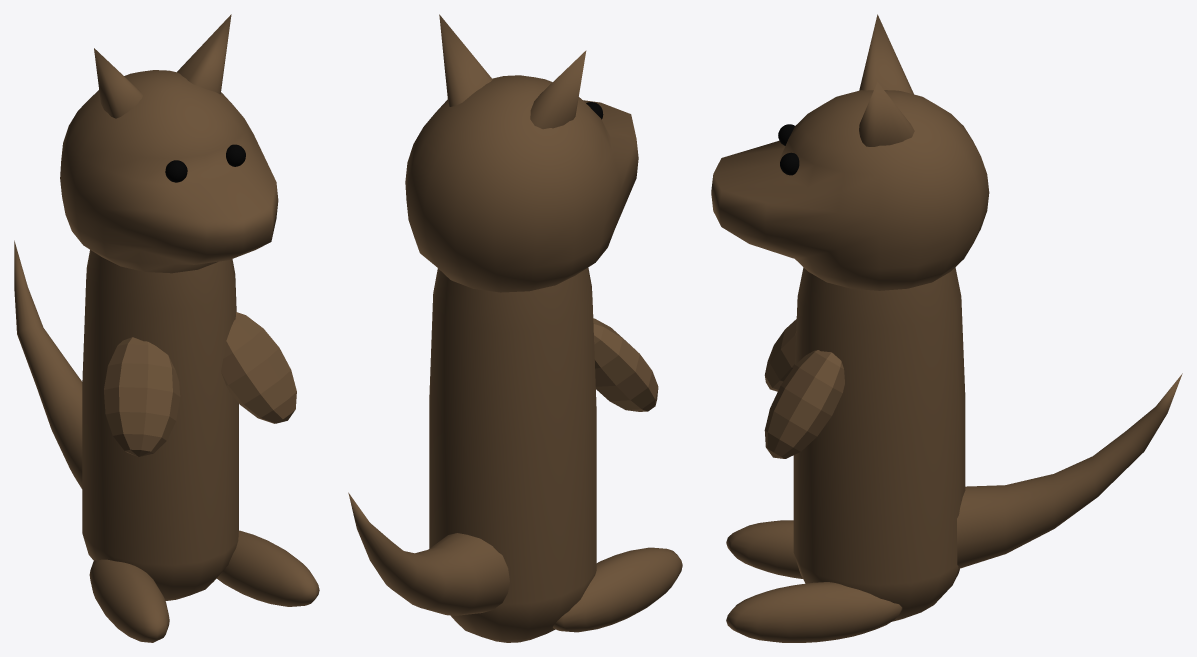
Rendered from updog.fbx.
The picture shows the model from 3 angles, left to right: view 1: azimuth 30°, elevation 25°; view 2: azimuth 150°, elevation 25°; view 3: azimuth 270°, elevation 25°; orthographic projection. The views are drawn at different scales.
Parts seen in each view (by area): view 1: dogBody, head, right, tail, left, leftFoot, rightFoot, leftEar, rightEar; view 2: dogBody, head, tail, rightFoot, right, leftEar, rightEar; view 3: dogBody, head, tail, leftFoot, left, rightFoot, leftEar, rightEar, right.
Boxes of the visible parts, x1=… form: dogBody: x1=82, y1=250, x2=238, y2=600; head: x1=60, y1=70, x2=278, y2=273; right: x1=104, y1=337, x2=180, y2=456; tail: x1=14, y1=240, x2=82, y2=488; left: x1=221, y1=312, x2=296, y2=423; leftFoot: x1=217, y1=530, x2=319, y2=606; rightFoot: x1=89, y1=559, x2=169, y2=642; leftEar: x1=177, y1=14, x2=231, y2=94; rightEar: x1=94, y1=48, x2=142, y2=118; dogBody: x1=429, y1=267, x2=596, y2=642; head: x1=405, y1=75, x2=638, y2=292; tail: x1=348, y1=492, x2=509, y2=615; rightFoot: x1=553, y1=547, x2=682, y2=632; right: x1=593, y1=318, x2=658, y2=411; leftEar: x1=439, y1=14, x2=492, y2=106; rightEar: x1=530, y1=50, x2=586, y2=129; dogBody: x1=793, y1=267, x2=965, y2=621; head: x1=711, y1=90, x2=989, y2=290; tail: x1=957, y1=373, x2=1182, y2=568; leftFoot: x1=726, y1=582, x2=902, y2=642; left: x1=764, y1=350, x2=844, y2=458; rightFoot: x1=726, y1=520, x2=802, y2=578; leftEar: x1=859, y1=82, x2=914, y2=146; rightEar: x1=859, y1=14, x2=913, y2=94; right: x1=764, y1=319, x2=796, y2=391.
Size of the model in its own units: 2.36 by 6.8 by 5.16.
